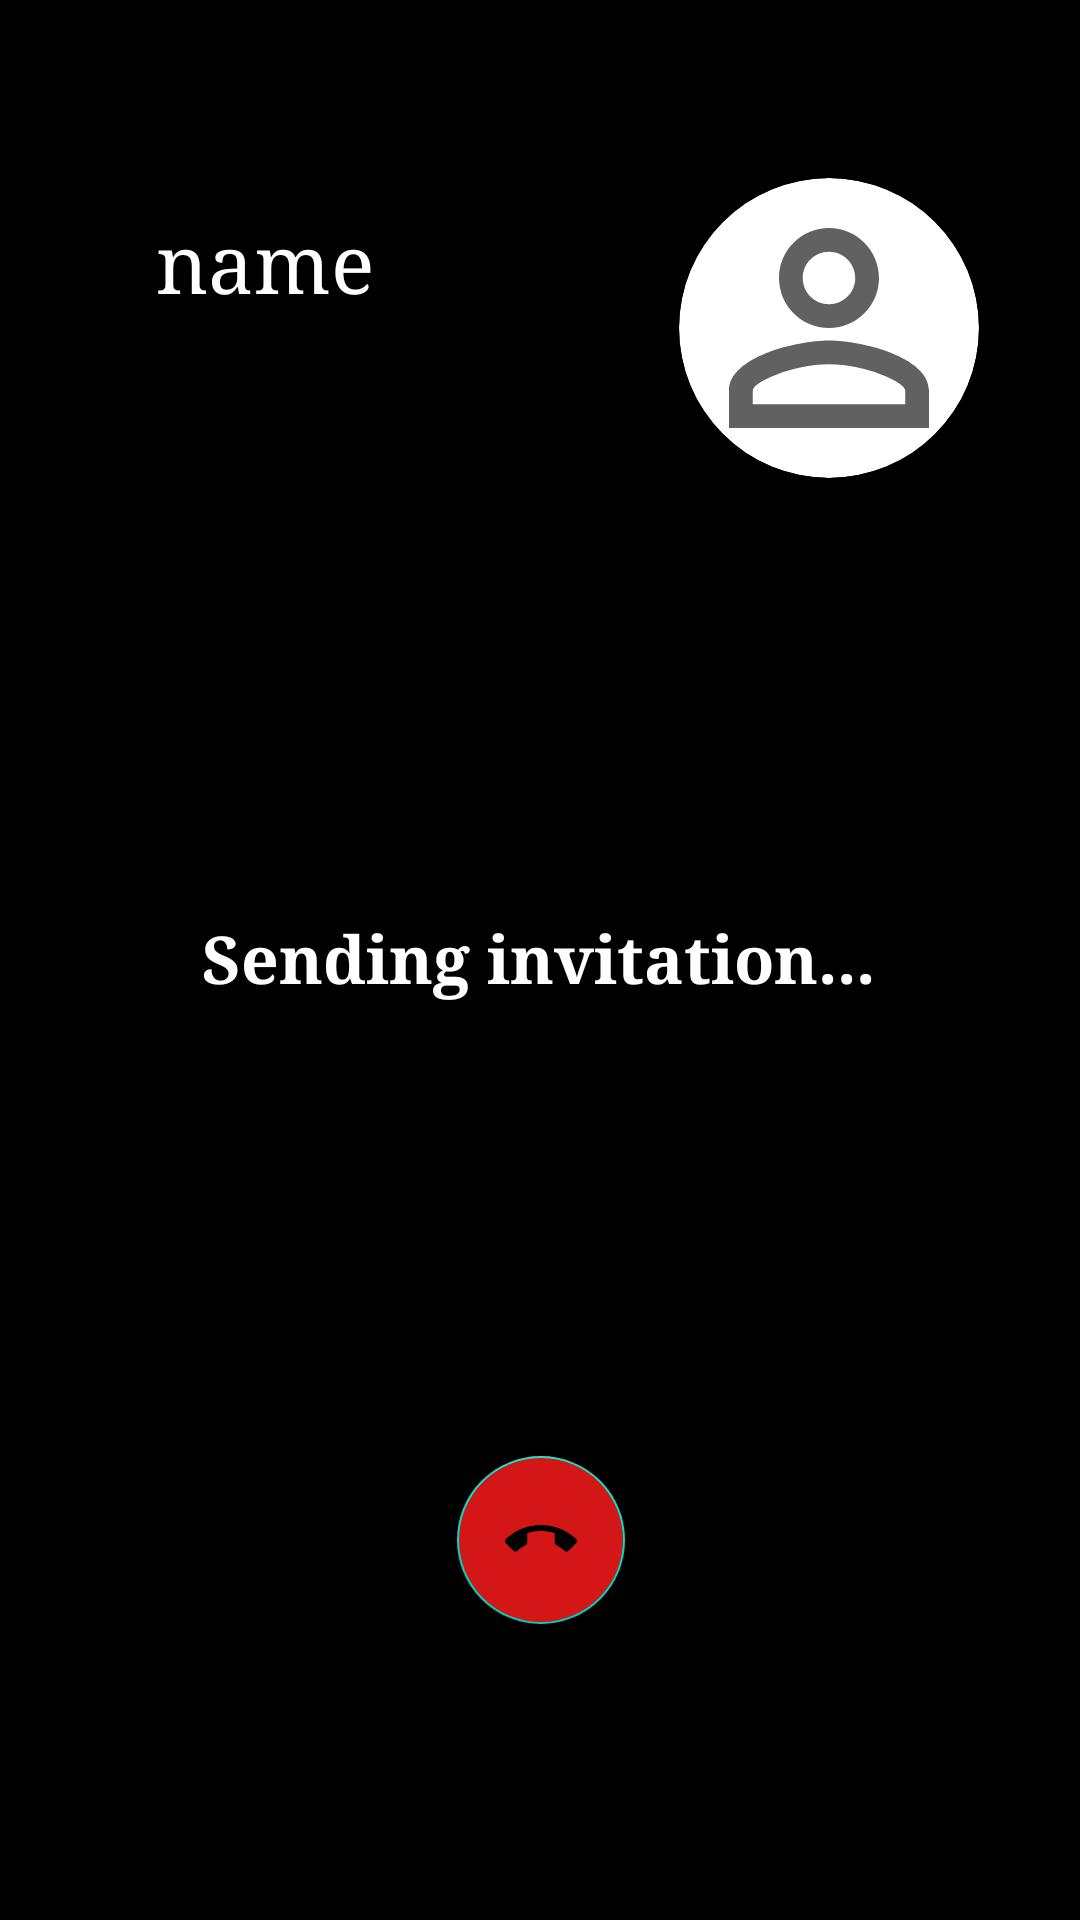

Icon click points for this 1080 x 1920 phone screenshot, format (x=x, y=y):
call end: (x=541, y=1540)
person: (x=829, y=328)
